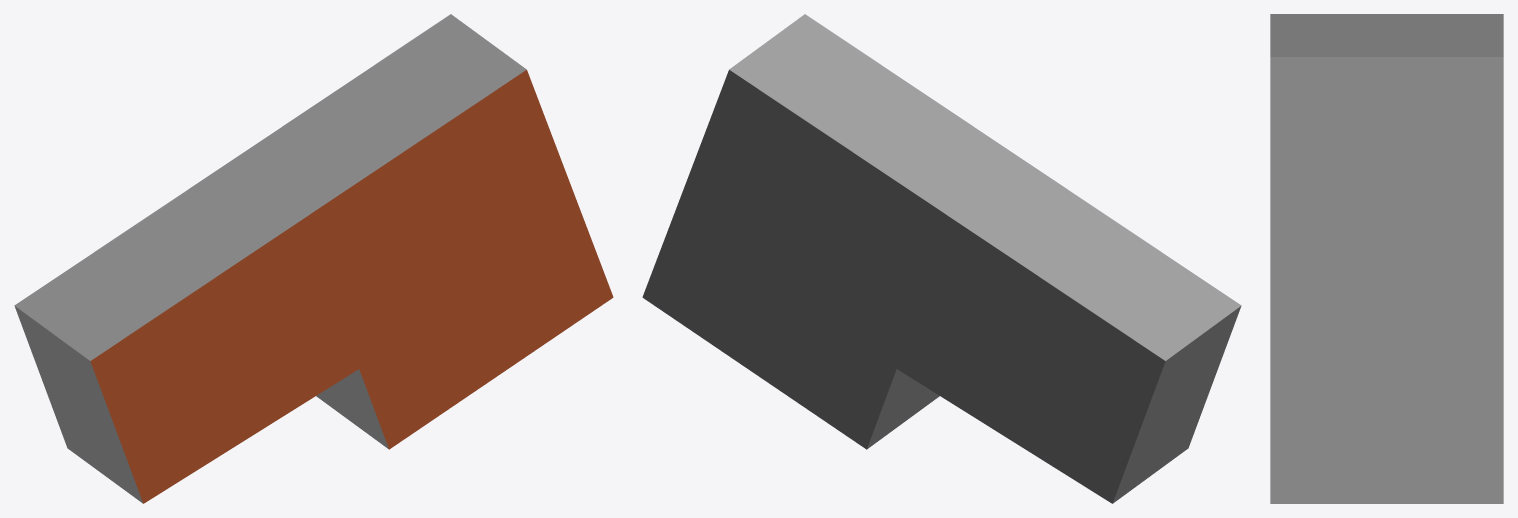
Rendered from construction_4814_assumed_A_Casa_h6m.obj.
3 renders of one model, left to right at view 1: azimuth 30°, elevation 25°; view 2: azimuth 150°, elevation 25°; view 3: azimuth 270°, elevation 25°, orthographic. The views are drawn at different scales.
Parts seen in each view (by area): view 1: construction_4814_assumed_A_Casa; view 2: construction_4814_assumed_A_Casa; view 3: construction_4814_assumed_A_Casa.
Boxes of the visible parts, <box> form: construction_4814_assumed_A_Casa: <box>14,14,613,503</box>; construction_4814_assumed_A_Casa: <box>642,14,1241,503</box>; construction_4814_assumed_A_Casa: <box>1270,14,1503,503</box>.
Bounding box in the file's own units: 23.85 × 15.09 × 6.
